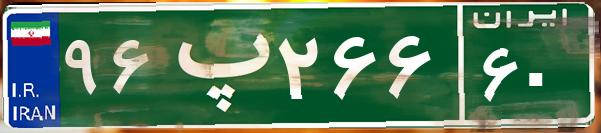0: (525, 38, 570, 115)
2: (273, 28, 330, 110)
6: (385, 28, 445, 110), (330, 28, 385, 110), (475, 38, 525, 113), (110, 28, 158, 105)
9: (57, 26, 110, 107)
پ: (158, 15, 273, 115)
